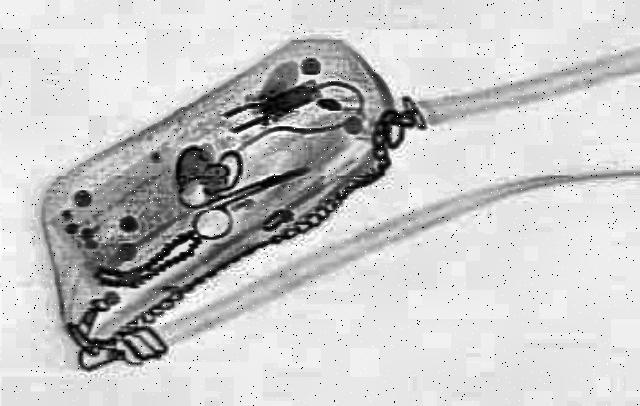Scissors: (155, 152, 331, 246)
